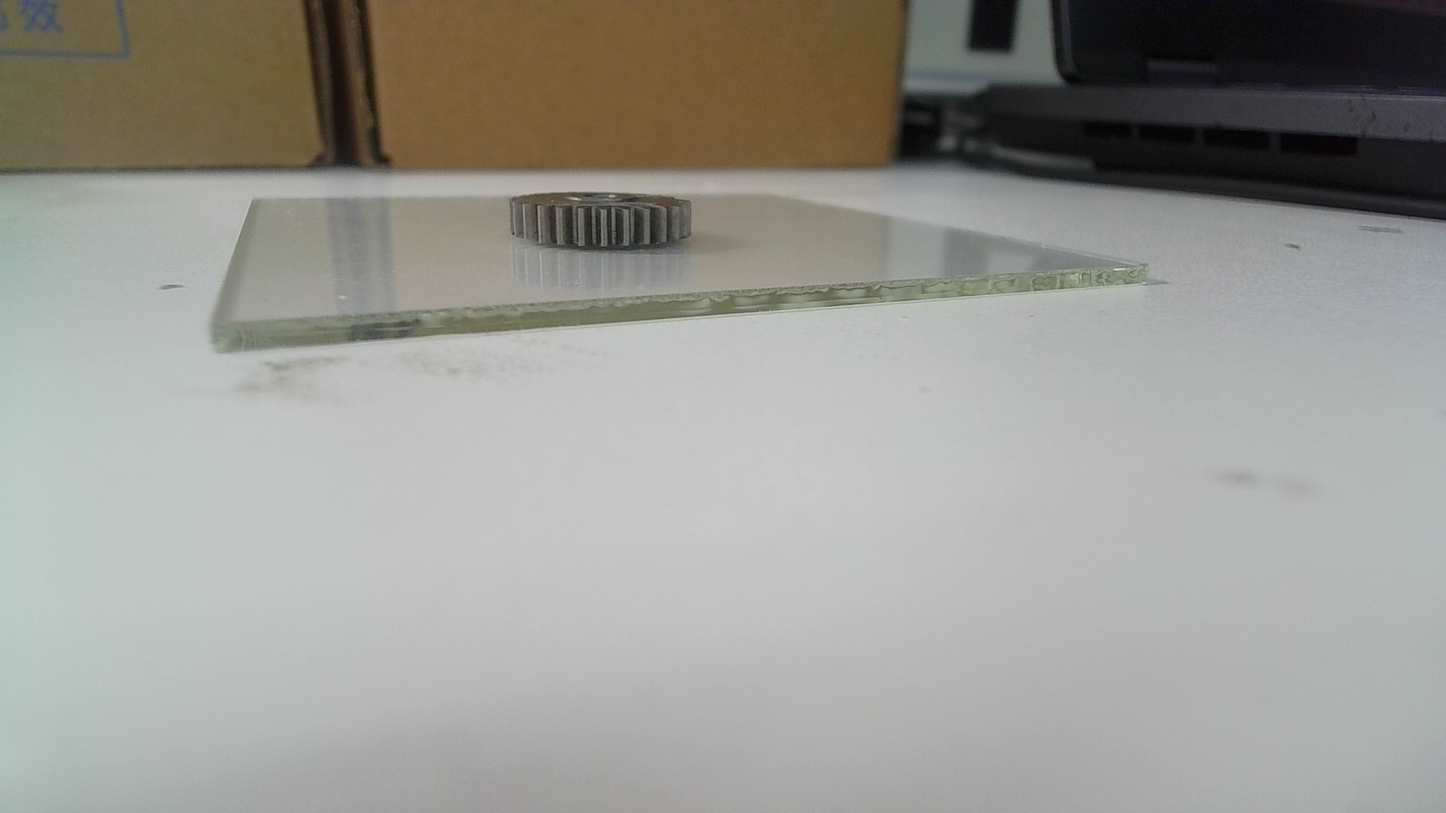gear: (507, 190, 699, 255)
